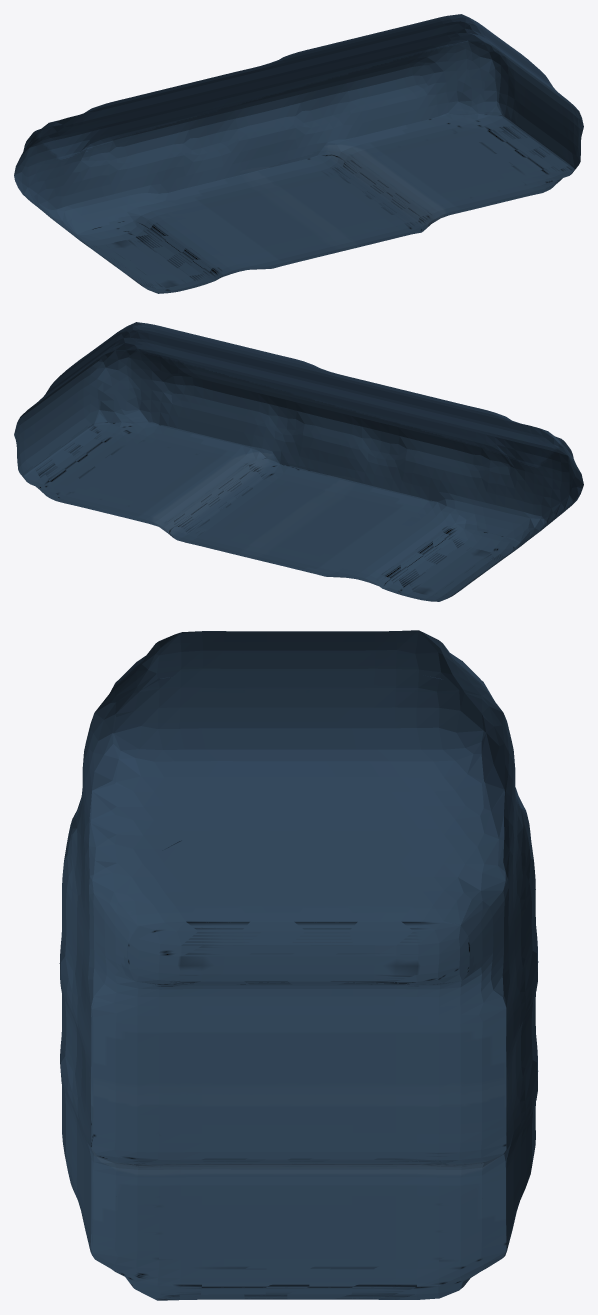
The picture shows the model from 3 angles, top to bottom: view 1: azimuth 30°, elevation 25°; view 2: azimuth 150°, elevation 25°; view 3: azimuth 270°, elevation 25°; orthographic projection. The views are drawn at different scales.
Visible parts, largest first — view 1: model; view 2: model; view 3: model.
Boxes of the visible parts, left/top/right/bottom form: model: left=14, top=14, right=583, bottom=293; model: left=14, top=322, right=583, bottom=601; model: left=59, top=630, right=538, bottom=1300.
Bounding box in the file's own units: 1 × 0.2911 × 0.4238.
Materials: 1 (1 with a texture image).
